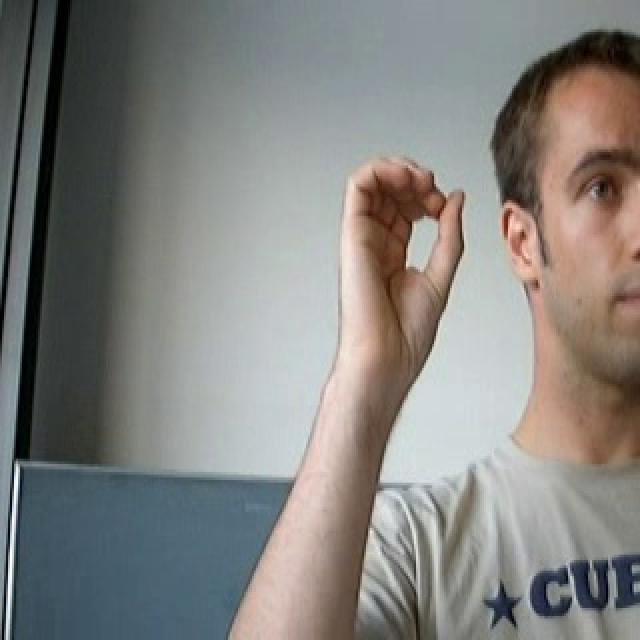O: (320, 137, 476, 392)
